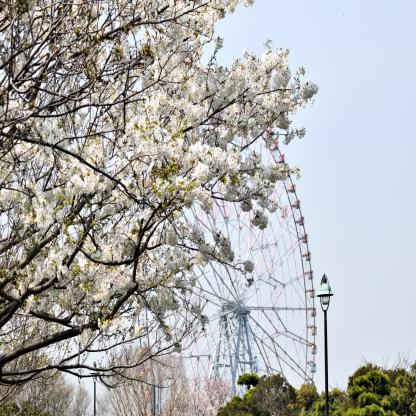OshimaSakura: (1, 0, 319, 352), (101, 332, 189, 416), (184, 368, 235, 416), (69, 372, 93, 416)
